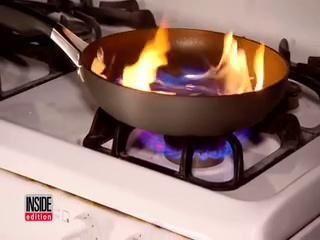Fire: (90, 18, 260, 102)
